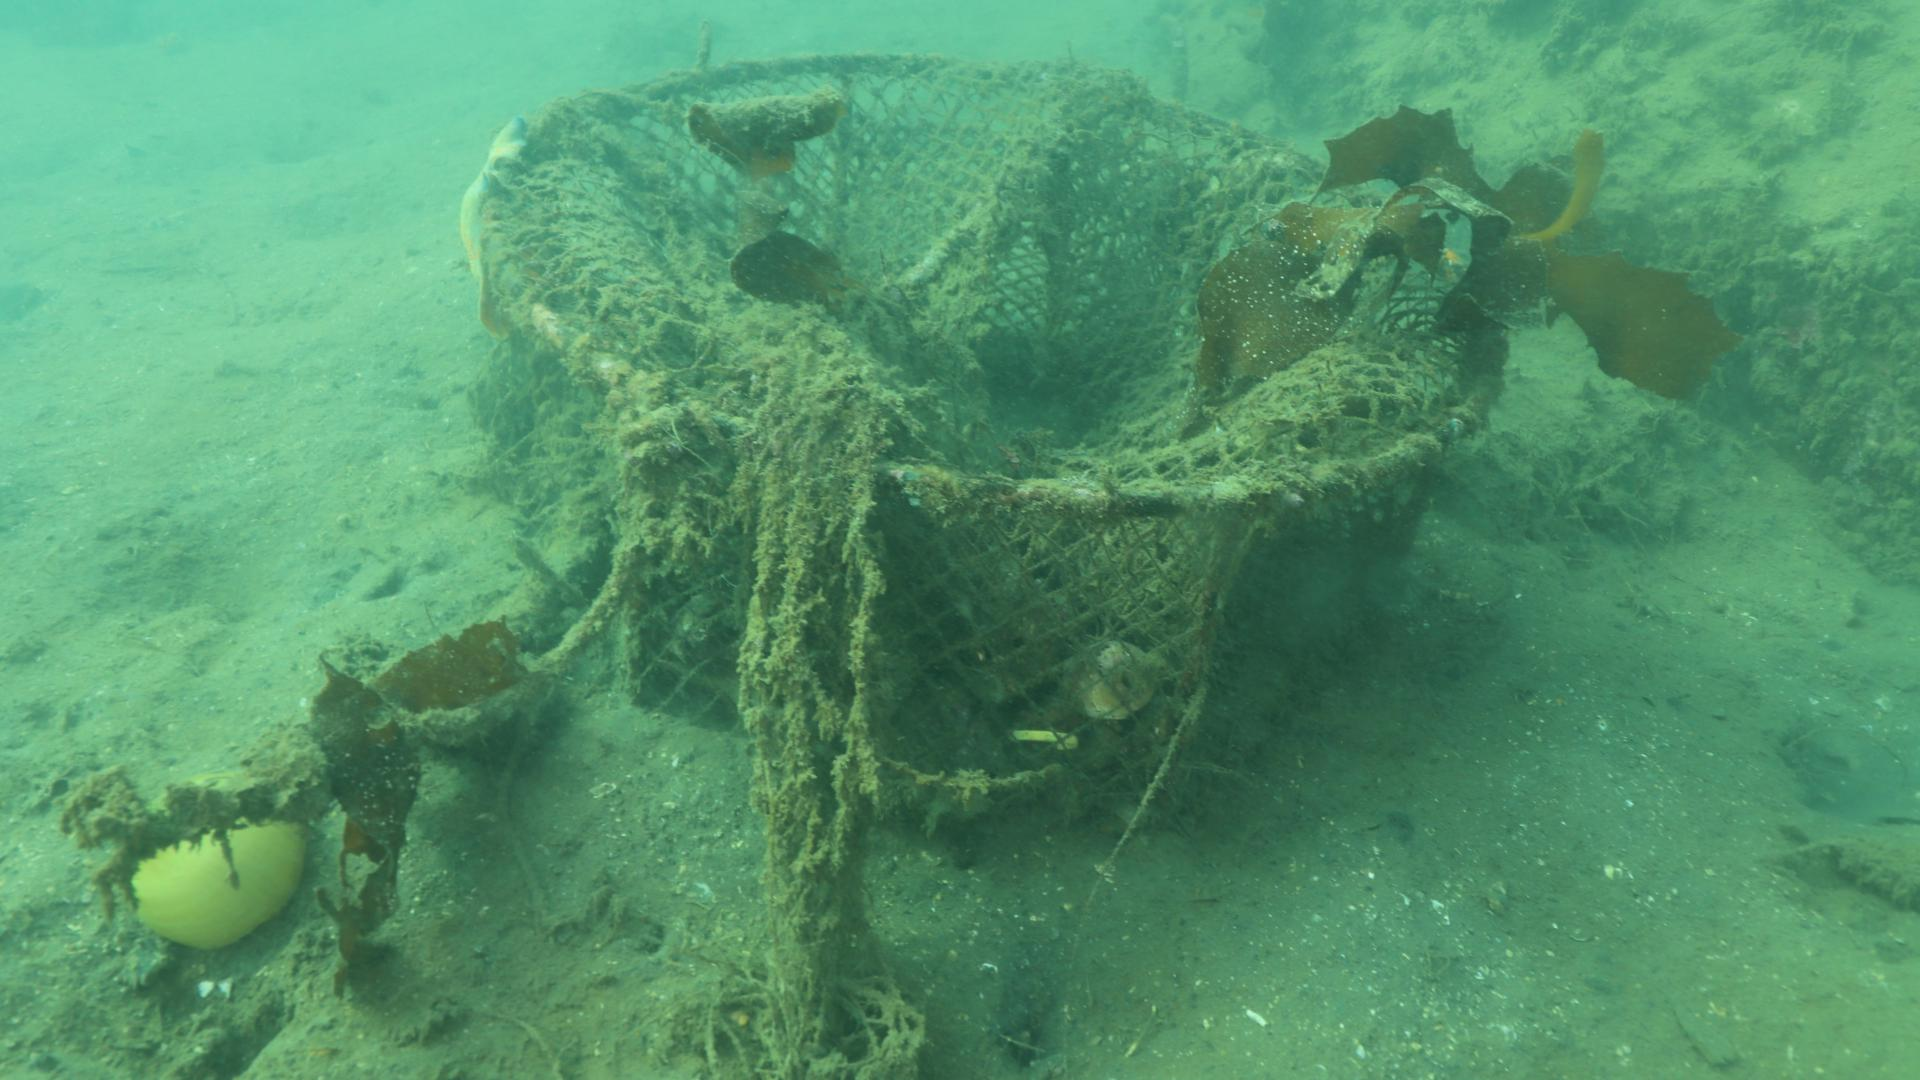circular fish trap: (464, 50, 1509, 844)
